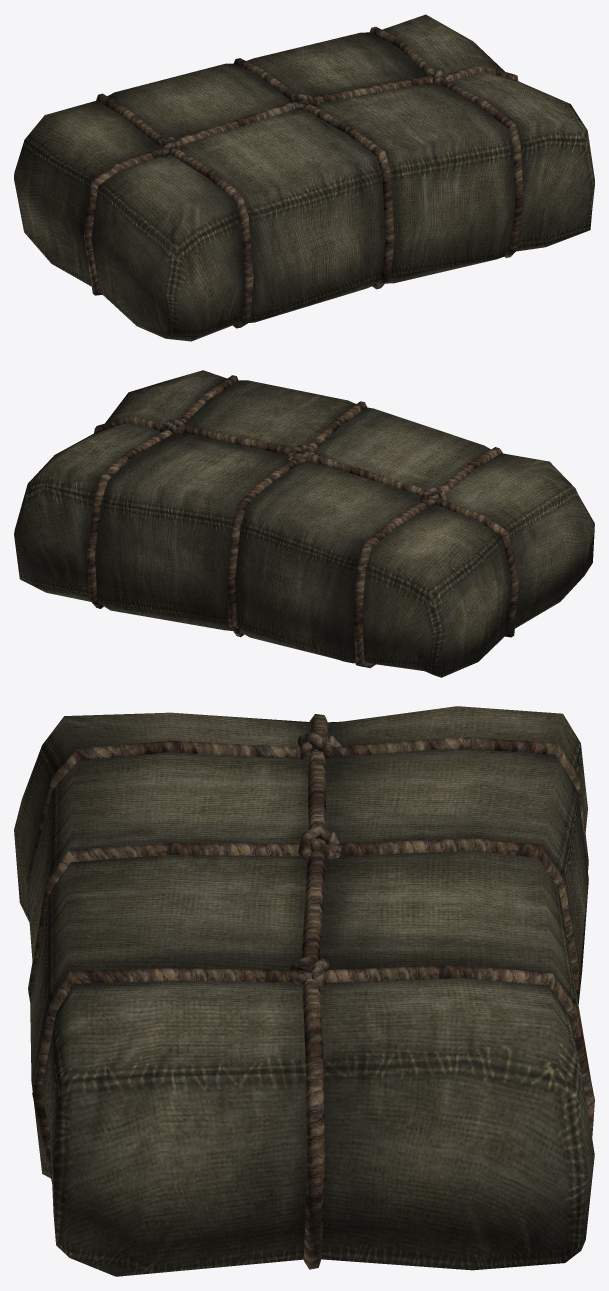
File: Sack_C_01.FBX
3 renders of one model, top to bottom at view 1: azimuth 30°, elevation 25°; view 2: azimuth 150°, elevation 25°; view 3: azimuth 270°, elevation 25°, orthographic. The views are drawn at different scales.
Parts seen in each view (by area): view 1: Sack_C_01; view 2: Sack_C_01; view 3: Sack_C_01.
Boxes of the visible parts, x1,y1,x2,y2 form: Sack_C_01: [14, 14, 594, 341]; Sack_C_01: [14, 370, 594, 677]; Sack_C_01: [14, 706, 594, 1276].
Size of the model in its own units: 99.7 by 31.32 by 62.39.
